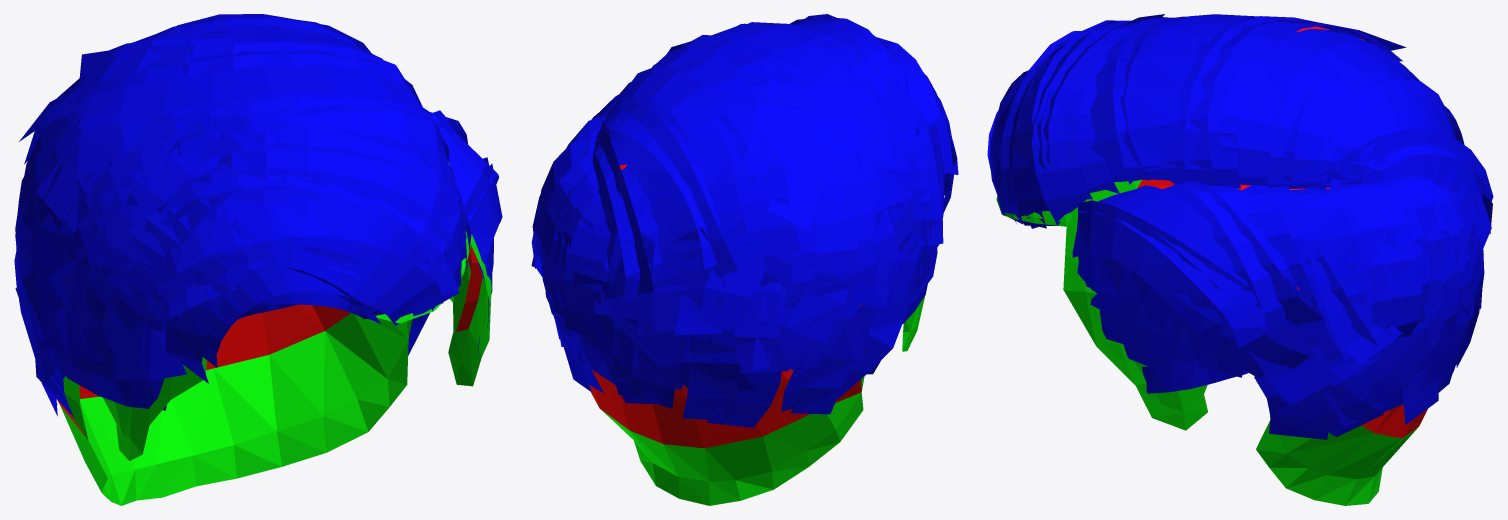
File: hair_002.obj
The picture shows the model from 3 angles, left to right: view 1: azimuth 30°, elevation 25°; view 2: azimuth 150°, elevation 25°; view 3: azimuth 270°, elevation 25°; orthographic projection. The views are drawn at different scales.
Bounding box in the file's own units: 19.19 × 21.29 × 21.58.
